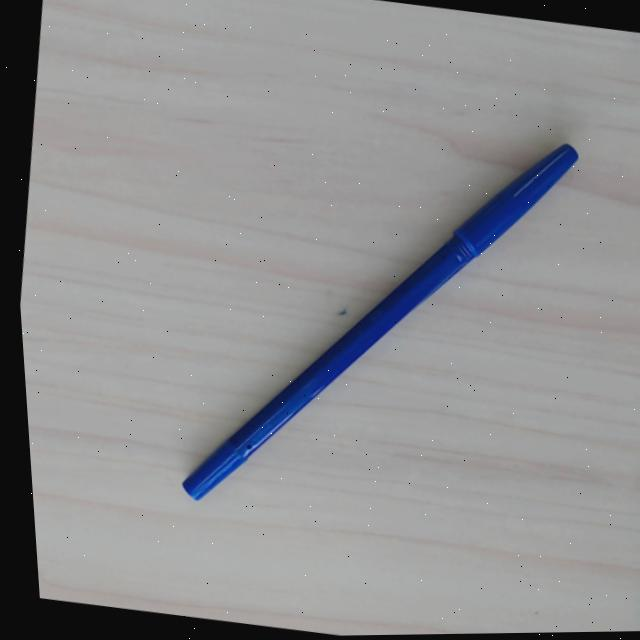Pulpen-Biru: (172, 134, 585, 503)
